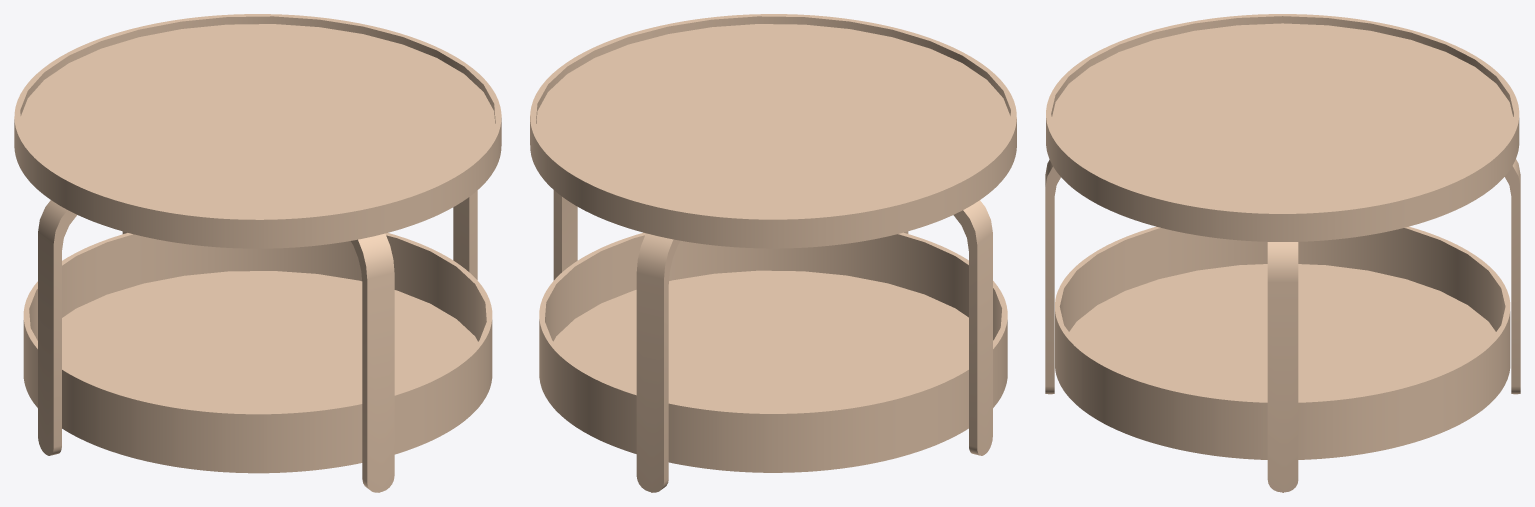
The model's file is CoffeeTable.fbx.
3 renders of one model, left to right at view 1: azimuth 30°, elevation 25°; view 2: azimuth 150°, elevation 25°; view 3: azimuth 270°, elevation 25°, orthographic. The views are drawn at different scales.
Visible parts, largest first — view 1: Cylinder.001; view 2: Cylinder.001; view 3: Cylinder.001.
Part boxes in pixels (box(x1,y1,x2,y2)): Cylinder.001: box(14, 14, 501, 492); Cylinder.001: box(530, 14, 1016, 492); Cylinder.001: box(1045, 14, 1520, 492).
Bounding box in the file's own units: 0.79 × 0.5124 × 0.79.
Materials: 1 (1 with a texture image).
